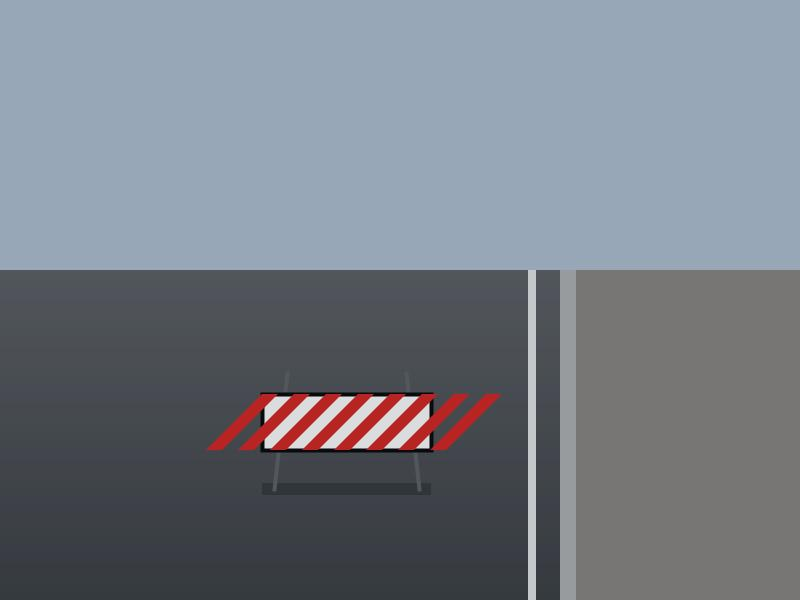ROAD_OBSTACLE: (262, 363, 431, 489)
